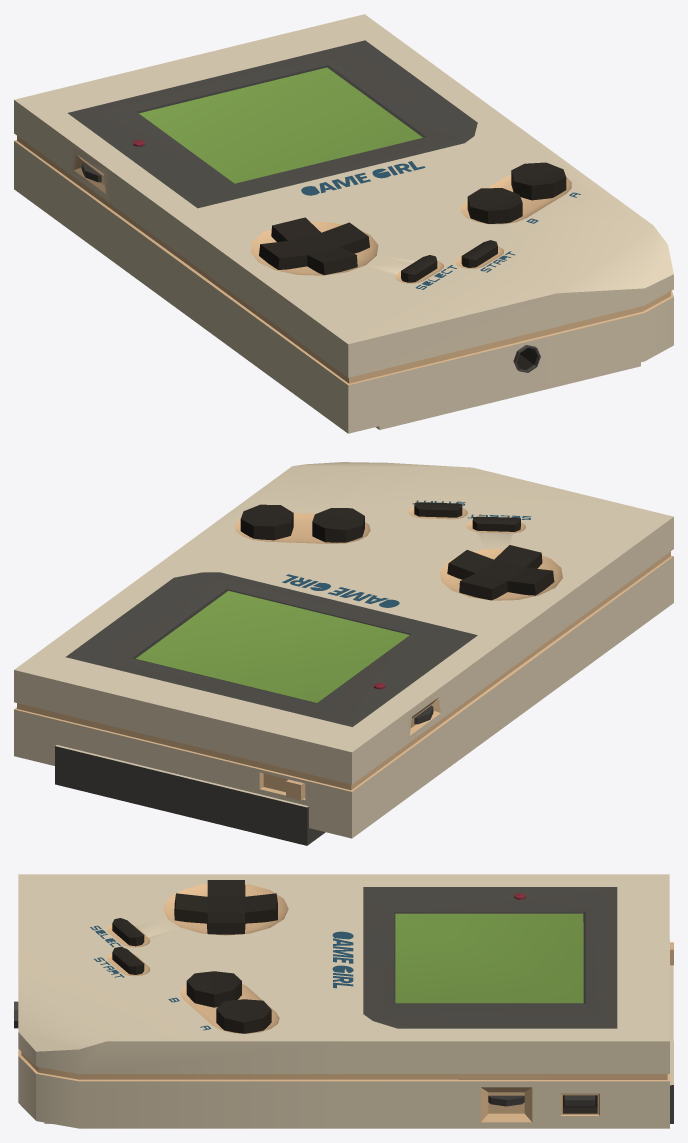
Rendered from GameGirl.fbx.
3 renders of one model, top to bottom at view 1: azimuth 30°, elevation 25°; view 2: azimuth 150°, elevation 25°; view 3: azimuth 270°, elevation 25°, orthographic. The views are drawn at different scales.
Visible parts, largest first — view 1: GameGirl; view 2: GameGirl; view 3: GameGirl.
Part boxes in pixels (x1,y1,x2,y2): GameGirl: [14, 14, 673, 433]; GameGirl: [14, 462, 673, 845]; GameGirl: [14, 874, 673, 1128].
Bounding box in the file's own units: 103 × 32.09 × 167.
